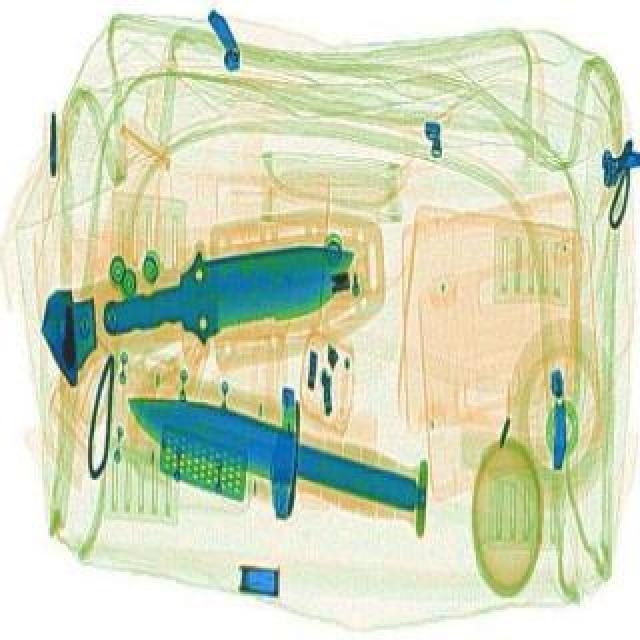knife: (102, 346, 474, 574), (90, 222, 378, 378)
